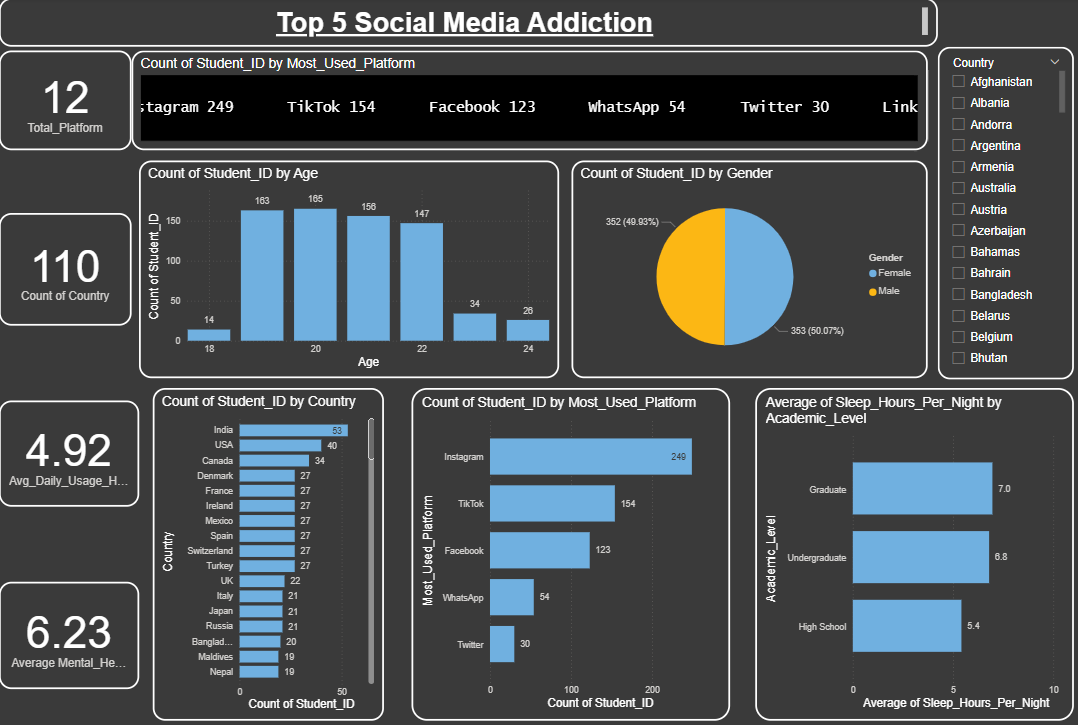

The dashboard page shown, as its layout file describes it:
{"tool":"powerbi","page":{"name":"Page 2","canvas":[1480,1000],"ordinal":1},"visuals":[{"type":"textbox","box":[0,0,1279.8,66.5],"z":0},{"type":"card","fields":{"Values":["Count(Students Social Media Addiction.Most_Used_Platform)"]},"box":[0,71.6,180.6,136.3],"z":1000},{"type":"card","fields":{"Values":["Count(Students Social Media Addiction.Country)"]},"box":[0,293.1,180.6,153.4],"z":2000},{"type":"card","fields":{"Values":["Avg(Students Social Media Addiction.Avg_Daily_Usage_Hours)"]},"box":[0,548.7,190.9,144.9],"z":3000},{"type":"card","fields":{"Values":["Avg(Students Social Media Addiction.Mental_Health_Score)"]},"box":[0,795.8,190.9,146.6],"z":4000},{"type":"slicer","fields":{"Values":["Students Social Media Addiction.Relationship_Status"]},"box":[438,347.7,221.5,170.4],"z":5000},{"type":"clusteredColumnChart","fields":{"Y":["CountNonNull(Students Social Media Addiction.Student_ID)"],"Category":["Students Social Media Addiction.Age"]},"box":[190.9,221.5,572.6,296.5],"z":6000},{"type":"slicer","fields":{"Values":["Students Social Media Addiction.Country"]},"box":[1279.8,66.5,185.8,453.3],"z":7000},{"type":"clusteredBarChart","fields":{"Category":["Students Social Media Addiction.Country"],"Y":["CountNonNull(Students Social Media Addiction.Student_ID)"]},"box":[209.6,531.7,315.3,453.3],"z":8000},{"type":"pieChart","fields":{"Y":["CountNonNull(Students Social Media Addiction.Student_ID)"],"Category":["Students Social Media Addiction.Gender"]},"box":[780.5,221.5,485.7,296.5],"z":9000},{"type":"clusteredBarChart","fields":{"Category":["Students Social Media Addiction.Most_Used_Platform"],"Y":["CountNonNull(Students Social Media Addiction.Student_ID)"]},"box":[562.4,531.7,434.6,453.3],"z":10000},{"type":"ScrollingTextVisual1448795304508","fields":{"Measure Absolute":["CountNonNull(Students Social Media Addiction.Student_ID)"],"Category":["Students Social Media Addiction.Most_Used_Platform"]},"box":[180.6,71.6,1085.6,136.3],"z":11000},{"type":"clusteredBarChart","fields":{"Y":["Avg(Students Social Media Addiction.Sleep_Hours_Per_Night)"],"Category":["Students Social Media Addiction.Academic_Level"]},"box":[1031,531.7,434.6,453.3],"z":12000}]}

Visuals, with their boxes in screenshot pixels (x1, y1, x2, y2), scaled from the page's 1480x1000 canvas onto the 1078x725 screenshot:
textbox: locate(0, 0, 932, 48)
card - Count(Students Social Media Addiction.Most_Used_Platform): locate(0, 52, 132, 151)
card - Count(Students Social Media Addiction.Country): locate(0, 212, 132, 324)
card - Avg(Students Social Media Addiction.Avg_Daily_Usage_Hours): locate(0, 398, 139, 503)
card - Avg(Students Social Media Addiction.Mental_Health_Score): locate(0, 577, 139, 683)
slicer - Students Social Media Addiction.Relationship_Status: locate(319, 252, 480, 376)
clusteredColumnChart - CountNonNull(Students Social Media Addiction.Student_ID) x Students Social Media Addiction.Age: locate(139, 161, 556, 376)
slicer - Students Social Media Addiction.Country: locate(932, 48, 1068, 377)
clusteredBarChart - Students Social Media Addiction.Country x CountNonNull(Students Social Media Addiction.Student_ID): locate(153, 385, 382, 714)
pieChart - CountNonNull(Students Social Media Addiction.Student_ID) x Students Social Media Addiction.Gender: locate(568, 161, 922, 376)
clusteredBarChart - Students Social Media Addiction.Most_Used_Platform x CountNonNull(Students Social Media Addiction.Student_ID): locate(410, 385, 726, 714)
ScrollingTextVisual1448795304508 - CountNonNull(Students Social Media Addiction.Student_ID) x Students Social Media Addiction.Most_Used_Platform: locate(132, 52, 922, 151)
clusteredBarChart - Avg(Students Social Media Addiction.Sleep_Hours_Per_Night) x Students Social Media Addiction.Academic_Level: locate(751, 385, 1068, 714)
